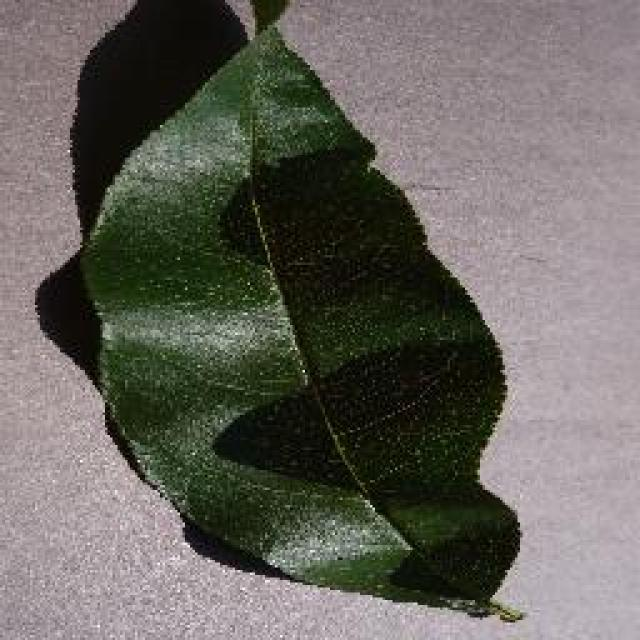Pea_healthy: (62, 98, 510, 562)
